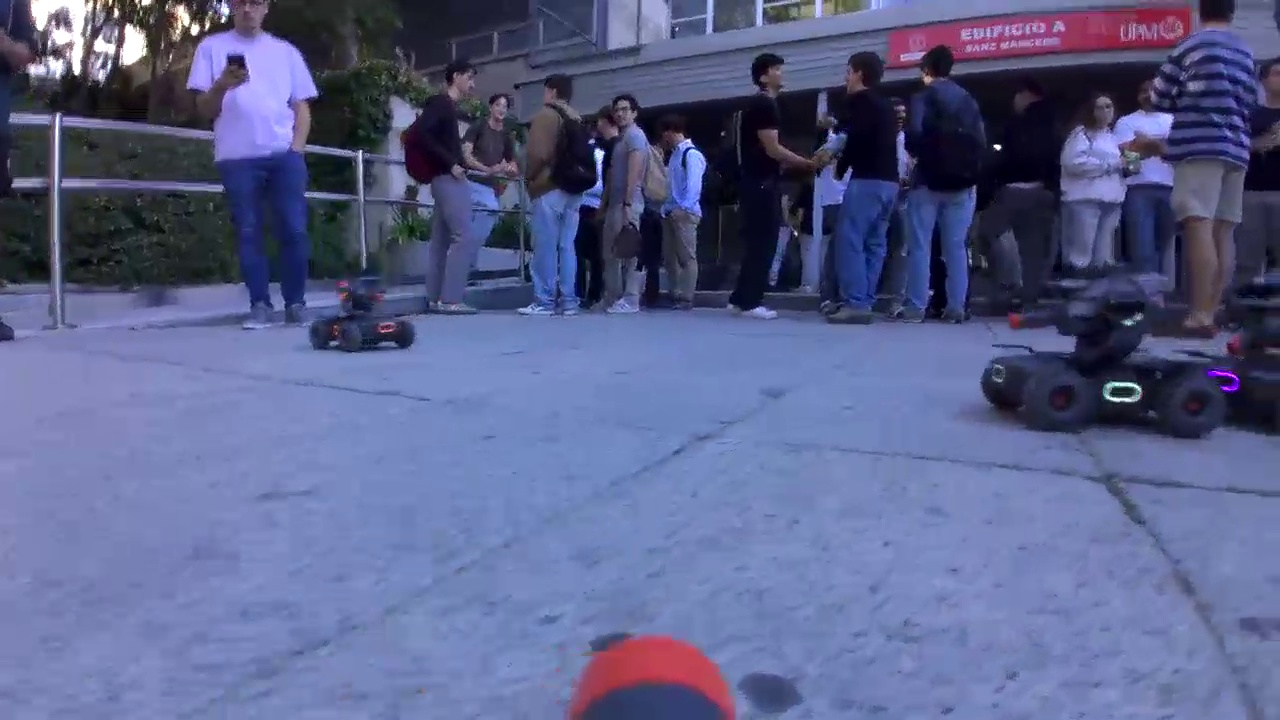robot: (980, 264, 1228, 439), (1217, 276, 1280, 433), (307, 276, 416, 354)
